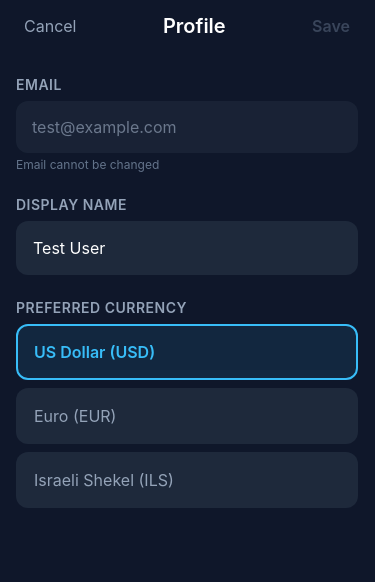
Test: ProfileScreen › Error Handling › shows generic error for non-ApiError failures
Replace the text in the field with test id "profile.displayNameInput" with "New Name". click: (187, 248)
box: [16,221,358,275]
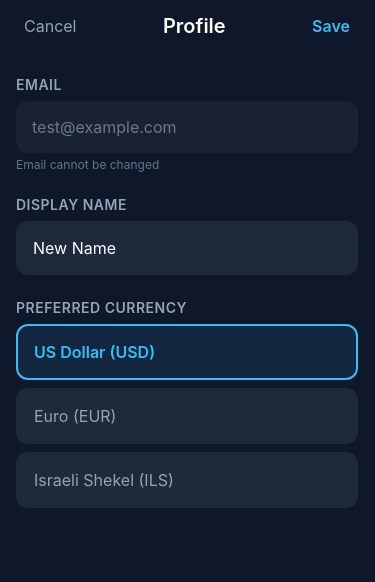
Click the element with test id "profile.saveButton". click: (331, 26)
box: [312,16,350,36]
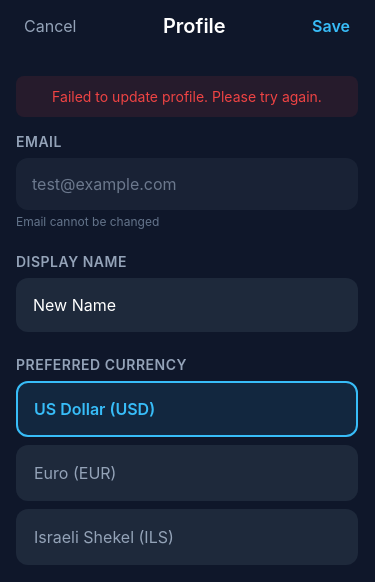
Expected: the element with test id "profile.errorMessage" is shown, [16,76,358,117]
Expected: the text "Failed to update profile. Please try again." is shown, [52,88,322,105]
